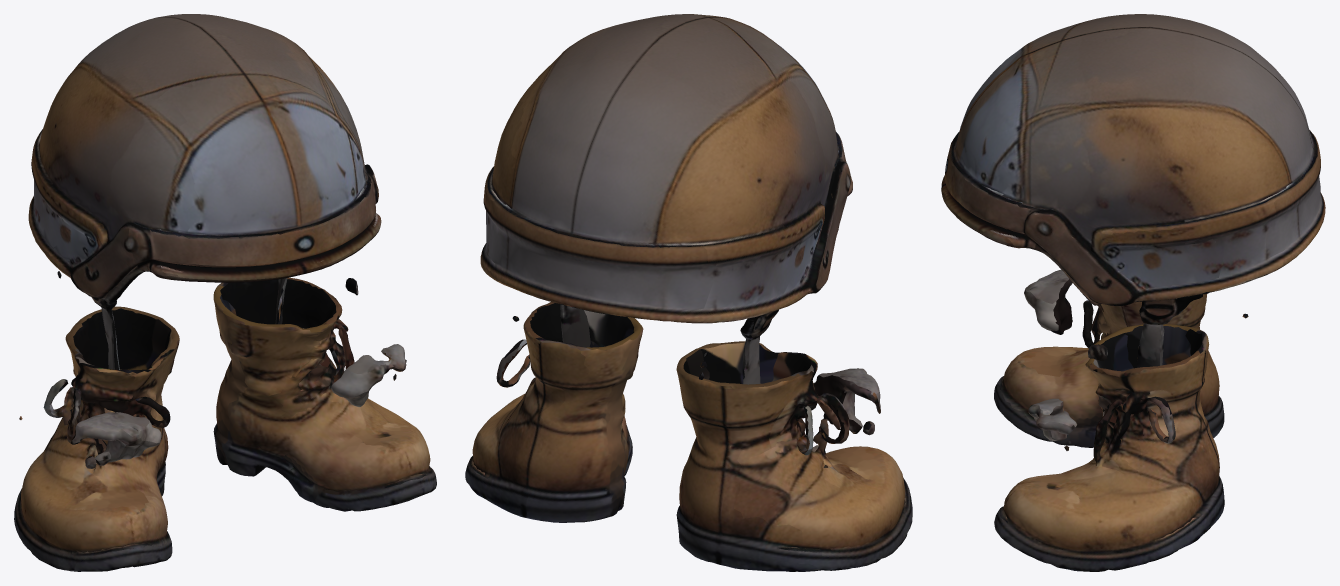
The model's file is catalog-armor-3-11.glb.
3 views of the same model, side by side, from view 1: azimuth 30°, elevation 25°; view 2: azimuth 150°, elevation 25°; view 3: azimuth 270°, elevation 25° (orthographic). The views are drawn at different scales.
Parts seen in each view (by area): view 1: tmpiggu8qnh.ply; view 2: tmpiggu8qnh.ply; view 3: tmpiggu8qnh.ply.
Part boxes in pixels (x1,y1,x2,y2): tmpiggu8qnh.ply: [14, 14, 436, 571]; tmpiggu8qnh.ply: [465, 14, 912, 571]; tmpiggu8qnh.ply: [941, 14, 1325, 571].
Size of the model in its own units: 1.67 by 1.96 by 1.49.
Materials: 1 (1 with a texture image).
